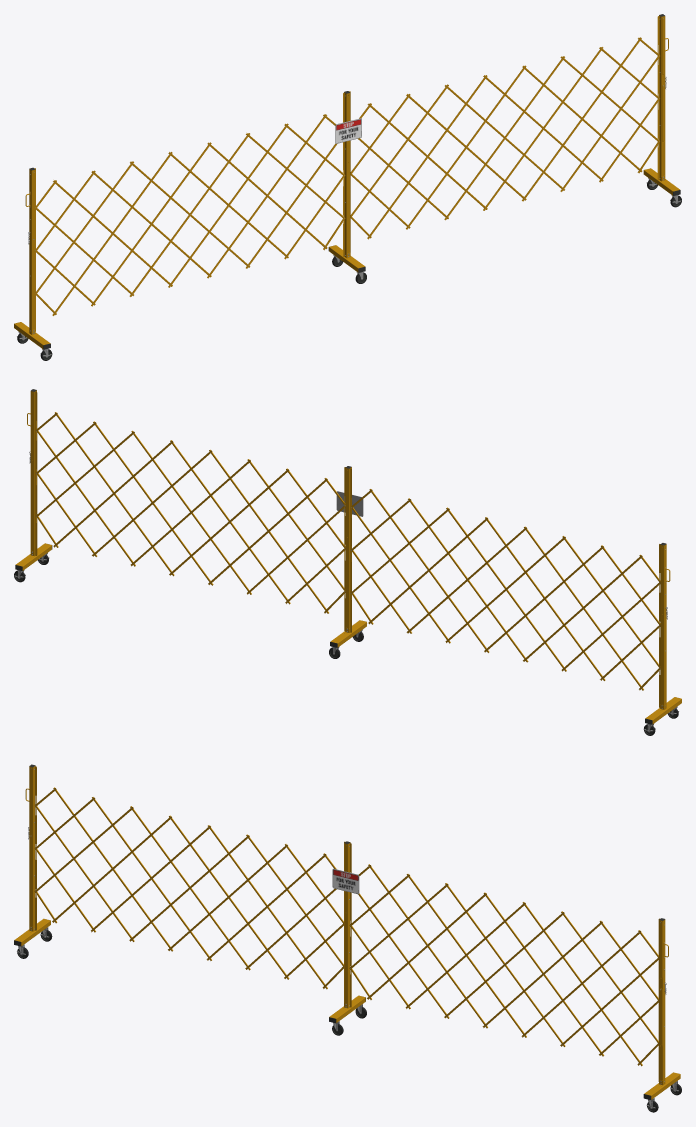
The model's file is barrier_gate.glb.
The picture shows the model from 3 angles, top to bottom: view 1: azimuth 30°, elevation 25°; view 2: azimuth 150°, elevation 25°; view 3: azimuth 330°, elevation 25°; orthographic projection.
Visible parts, largest first — view 1: barrier_gate_safety_a02_mesh_00; view 2: barrier_gate_safety_a02_mesh_00; view 3: barrier_gate_safety_a02_mesh_00.
Part boxes in pixels (x1=…): barrier_gate_safety_a02_mesh_00: x1=14, y1=14, x2=680, y2=349; barrier_gate_safety_a02_mesh_00: x1=15, y1=389, x2=681, y2=724; barrier_gate_safety_a02_mesh_00: x1=14, y1=764, x2=680, y2=1099.
Bounding box in the file's own units: 6.11 × 1.66 × 0.4867.
5 materials, 4 textured.
